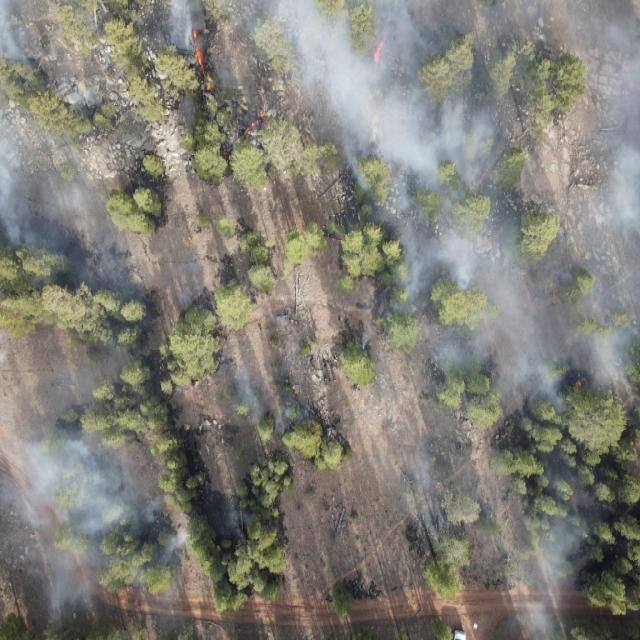fire: (186, 28, 214, 92), (232, 110, 270, 140), (469, 164, 492, 194), (370, 29, 390, 61), (221, 145, 232, 157), (572, 377, 583, 389)
smoke: (350, 158, 640, 390), (239, 0, 640, 159), (398, 391, 602, 640), (2, 381, 190, 640), (0, 1, 119, 276), (225, 358, 302, 442), (168, 0, 208, 58), (173, 270, 214, 316), (217, 502, 254, 549), (262, 308, 300, 344), (357, 321, 375, 357)
